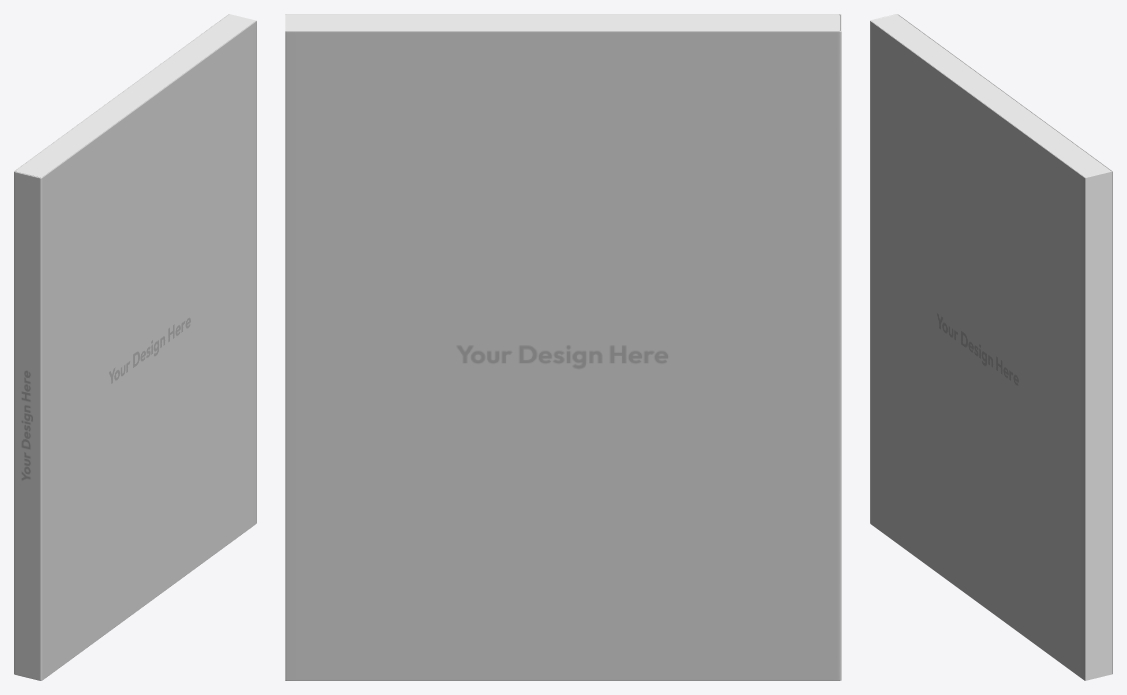
The model's file is replacer3d_67b9b6ce8cc7c.glb.
3 views of the same model, side by side, from view 1: azimuth 30°, elevation 25°; view 2: azimuth 150°, elevation 25°; view 3: azimuth 270°, elevation 25° (orthographic). The views are drawn at different scales.
Parts seen in each view (by area): view 1: Replacer-Cover, Pages; view 2: Replacer-Cover, Pages; view 3: Replacer-Cover, Pages.
Boxes of the visible parts, x1,y1,x2,y2 form: Replacer-Cover: (14, 14, 256, 680); Pages: (15, 14, 255, 177); Replacer-Cover: (285, 14, 841, 680); Pages: (285, 14, 839, 31); Replacer-Cover: (870, 14, 1112, 680); Pages: (871, 14, 1112, 680).
Bounding box in the file's own units: 0.9808 × 1.4 × 0.6125.
2 materials, 1 textured.
